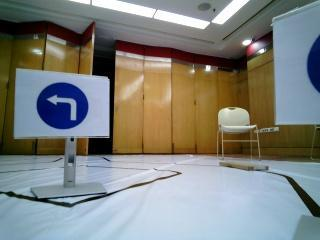left: (25, 71, 108, 139)
